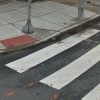crosswalk: (4, 27, 100, 100)
